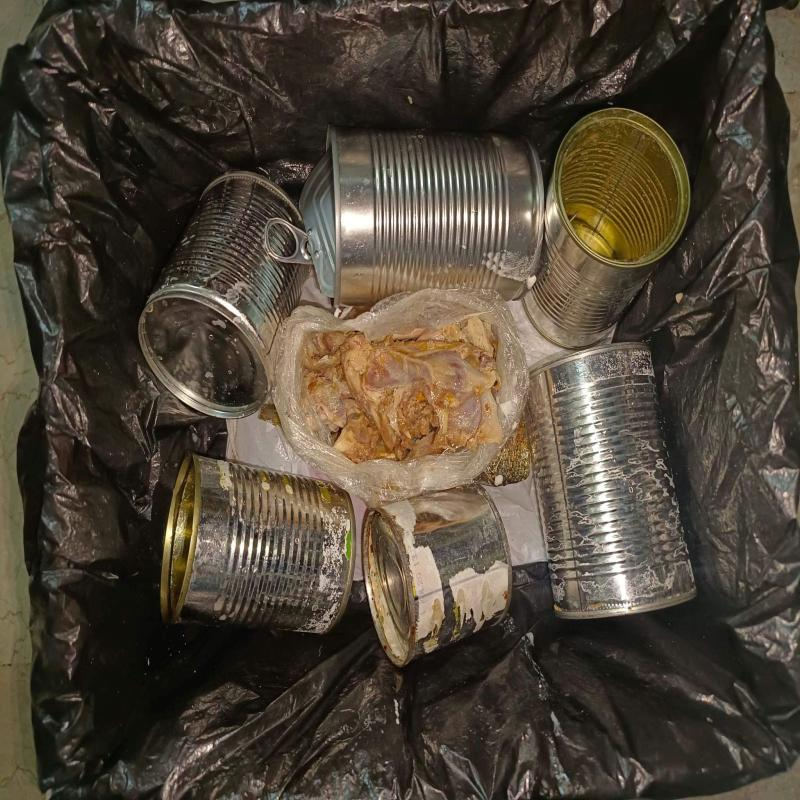aluminum: (264, 124, 547, 307), (523, 344, 698, 620), (138, 171, 311, 425), (524, 109, 692, 349), (161, 453, 356, 638), (360, 484, 512, 668)
left-over food: (288, 321, 498, 457)
